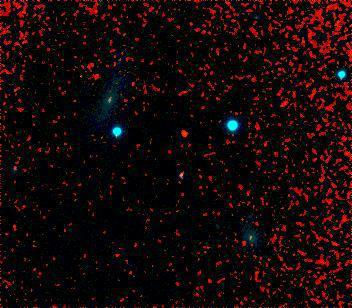star: (168, 118, 198, 148)
